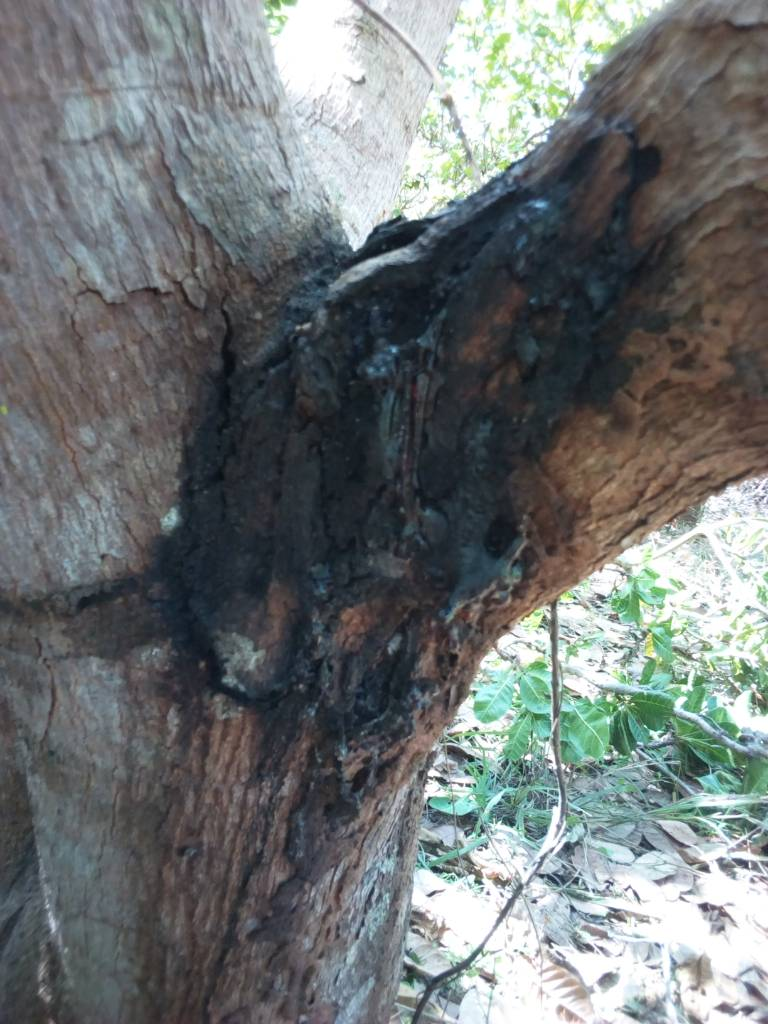Gommose: (168, 147, 682, 796)
